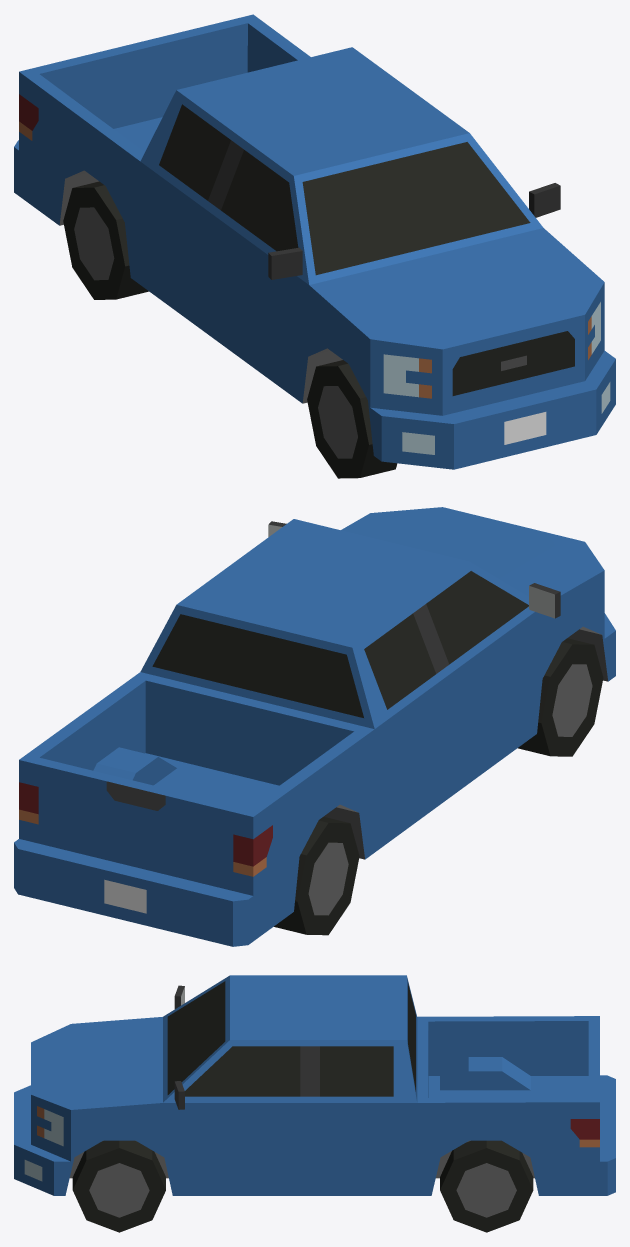
The model's file is Veh_Pickup_03_Blue.glb.
The picture shows the model from 3 angles, top to bottom: view 1: azimuth 30°, elevation 25°; view 2: azimuth 150°, elevation 25°; view 3: azimuth 270°, elevation 25°; orthographic projection. The views are drawn at different scales.
Visible parts, largest first — view 1: Pickup_03_Blue, Wheel_FR, Wheel_RR; view 2: Pickup_03_Blue, Wheel_FR, Wheel_RR; view 3: Pickup_03_Blue, Wheel_FL, Wheel_RL.
Boxes of the visible parts, x1=… form: Pickup_03_Blue: x1=14, y1=14, x2=615, y2=469; Wheel_FR: x1=307, y1=360, x2=397, y2=478; Wheel_RR: x1=63, y1=181, x2=148, y2=299; Pickup_03_Blue: x1=14, y1=507, x2=615, y2=946; Wheel_FR: x1=518, y1=638, x2=603, y2=756; Wheel_RR: x1=274, y1=816, x2=359, y2=935; Pickup_03_Blue: x1=14, y1=975, x2=615, y2=1195; Wheel_FL: x1=72, y1=1140, x2=165, y2=1232; Wheel_RL: x1=440, y1=1140, x2=533, y2=1232.
Bounding box in the file's own units: 1.37 × 1.1 × 3.29.
1 material, 1 textured.
